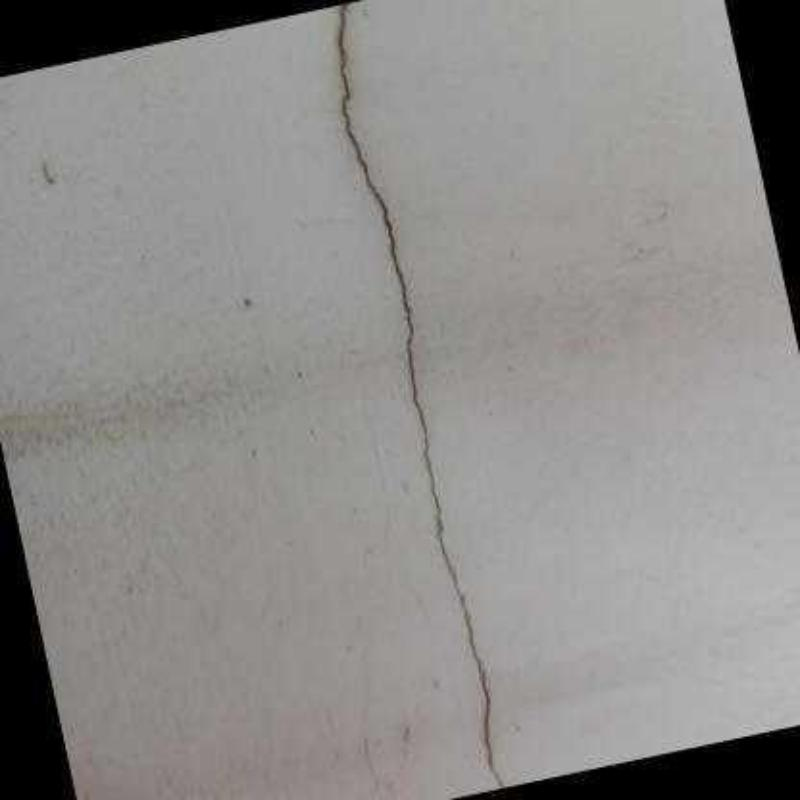pothole: (337, 2, 504, 788)
